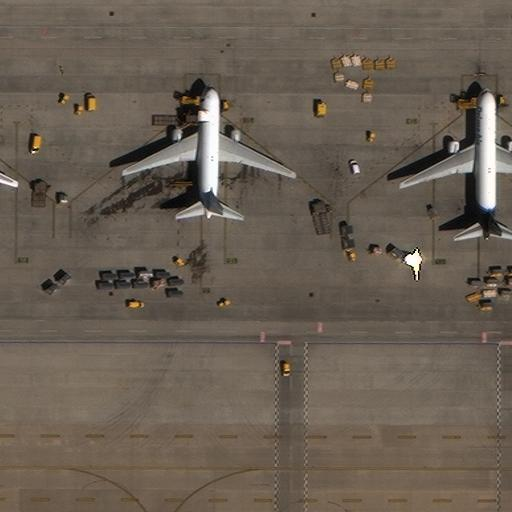Large Civil Transport: (122, 83, 295, 220), (400, 87, 512, 240)
